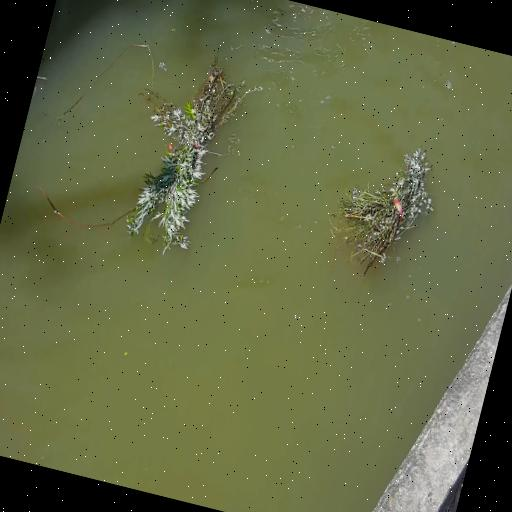twig: (112, 38, 262, 267), (322, 130, 446, 293)
